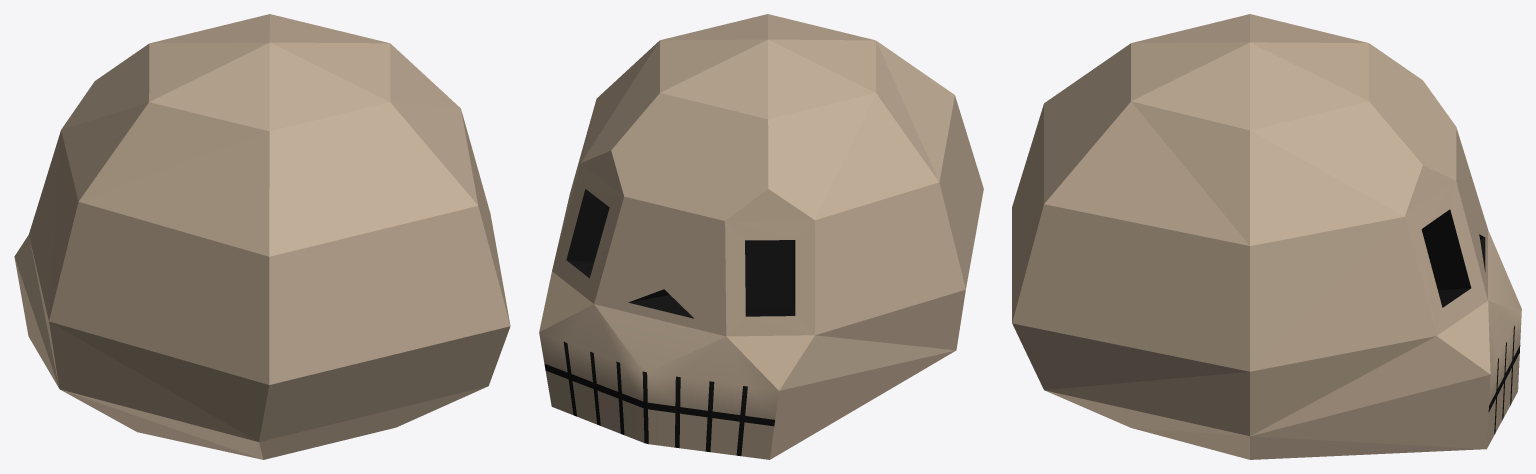
Rendered from Calavera.fbx.
3 views of the same model, side by side, from view 1: azimuth 30°, elevation 25°; view 2: azimuth 150°, elevation 25°; view 3: azimuth 270°, elevation 25° (orthographic). The views are drawn at different scales.
Parts seen in each view (by area): view 1: Calavera; view 2: Calavera; view 3: Calavera.
Part boxes in pixels (x1,y1,x2,y2): Calavera: (14,14,510,459); Calavera: (539,14,983,459); Calavera: (1012,14,1521,459).
Size of the model in its own units: 0.4638 by 0.3809 by 0.4685.
